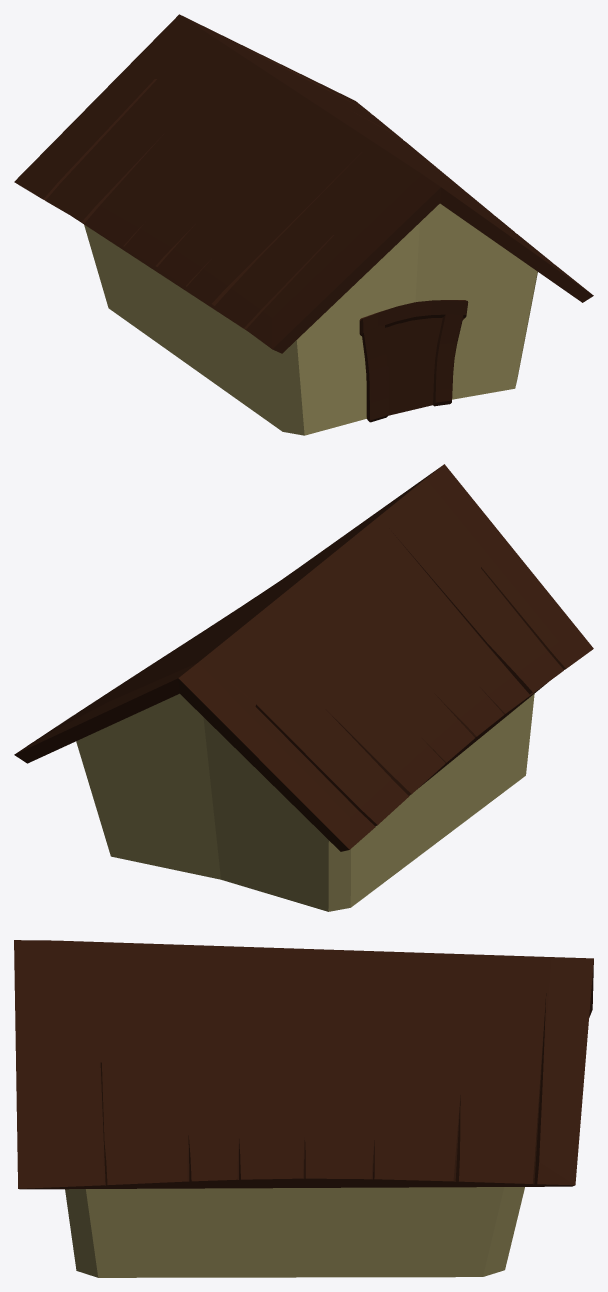
Rendered from house.fbx.
The picture shows the model from 3 angles, top to bottom: view 1: azimuth 30°, elevation 25°; view 2: azimuth 150°, elevation 25°; view 3: azimuth 270°, elevation 25°; orthographic projection. The views are drawn at different scales.
Visible parts, largest first — view 1: Cube; view 2: Cube; view 3: Cube.
Boxes of the visible parts, x1=… form: Cube: x1=14, y1=14, x2=593, y2=435; Cube: x1=14, y1=464, x2=593, y2=911; Cube: x1=14, y1=940, x2=593, y2=1277.
Size of the model in its own units: 534 by 378 by 721.
